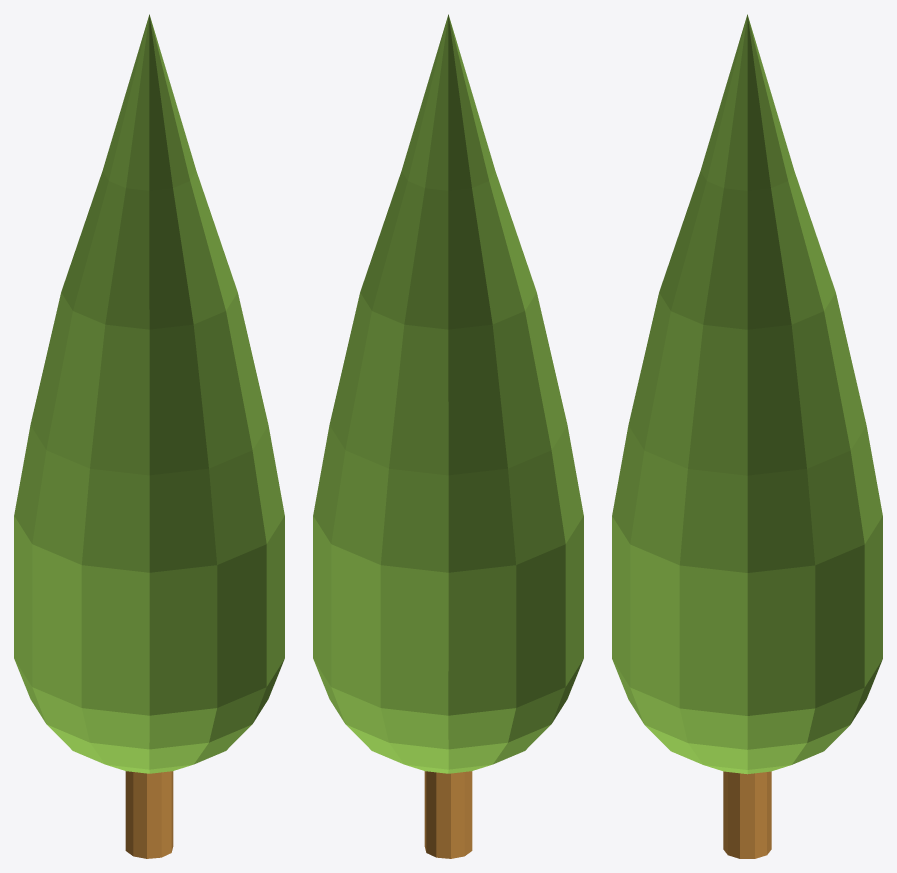
The model's file is tree-cypress.glb.
The picture shows the model from 3 angles, left to right: view 1: azimuth 30°, elevation 25°; view 2: azimuth 150°, elevation 25°; view 3: azimuth 270°, elevation 25°; orthographic projection.
Visible parts, largest first — view 1: Node; view 2: Node; view 3: Node.
Boxes of the visible parts, x1,y1,x2,y2 form: Node: (14, 14, 284, 858); Node: (313, 14, 583, 858); Node: (612, 14, 882, 858).
Size of the model in its own units: 0.0558 by 0.1899 by 0.0558.
